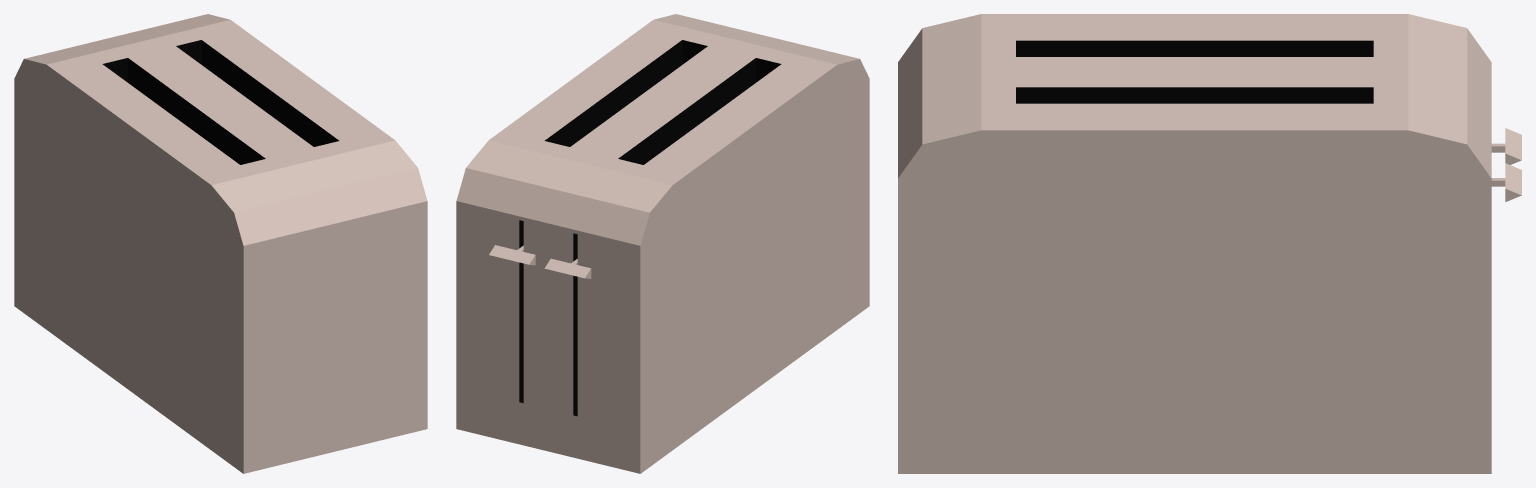
File: bread_toaster.fbx
3 views of the same model, side by side, from view 1: azimuth 30°, elevation 25°; view 2: azimuth 150°, elevation 25°; view 3: azimuth 270°, elevation 25° (orthographic). The views are drawn at different scales.
Visible parts, largest first — view 1: switch; view 2: switch; view 3: switch.
Boxes of the visible parts, box(x1,y1,x2,y2) form: switch: box(14, 14, 427, 473); switch: box(456, 14, 869, 473); switch: box(898, 14, 1521, 473).
Bounding box in the file's own units: 0.3134 × 0.4316 × 0.7102.
